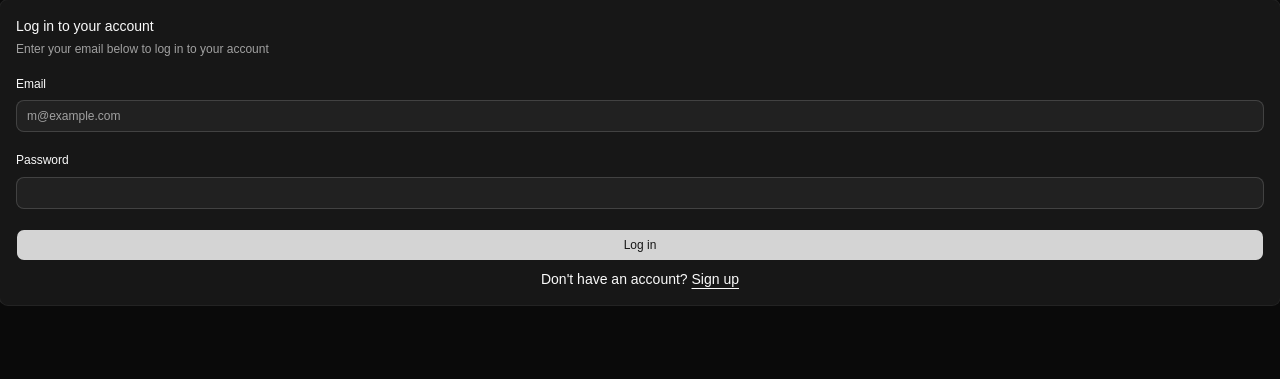
it: LoginForm › validates values before submitting
Type "not-an-email" into the field labelled "Email".
click(640, 116); type("not-an-email")  # box [16,100,1264,132]
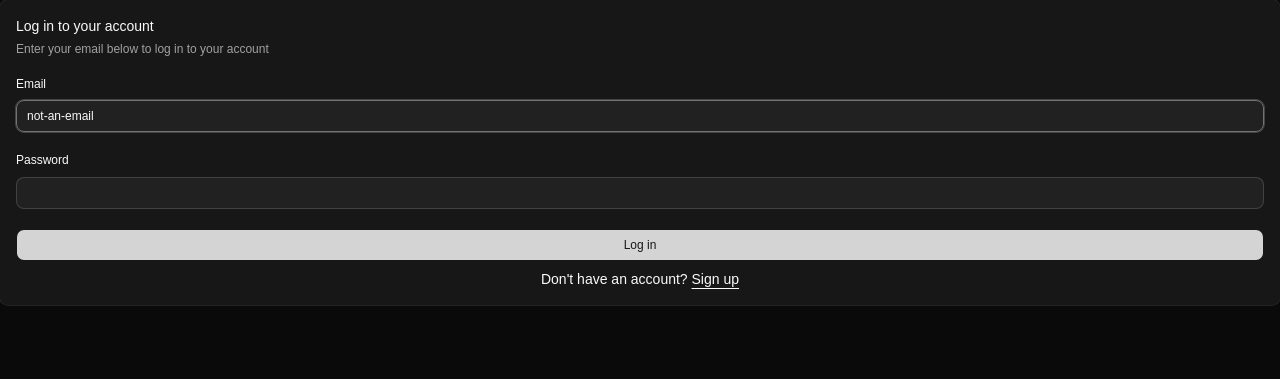
Type "short" into the password field labelled "Password".
click(640, 192); type("short")  # box [16,176,1264,208]
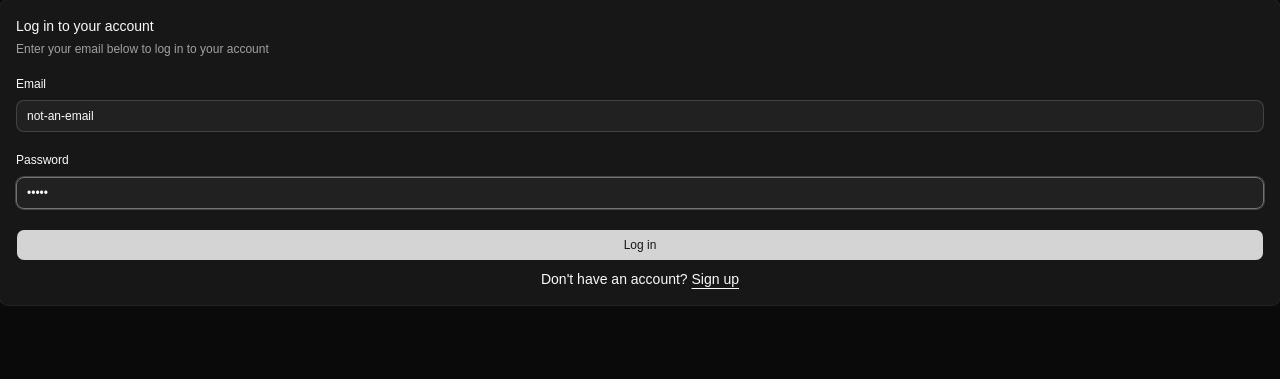
Click the button "Log in".
click(640, 244)  # box [16,228,1264,260]
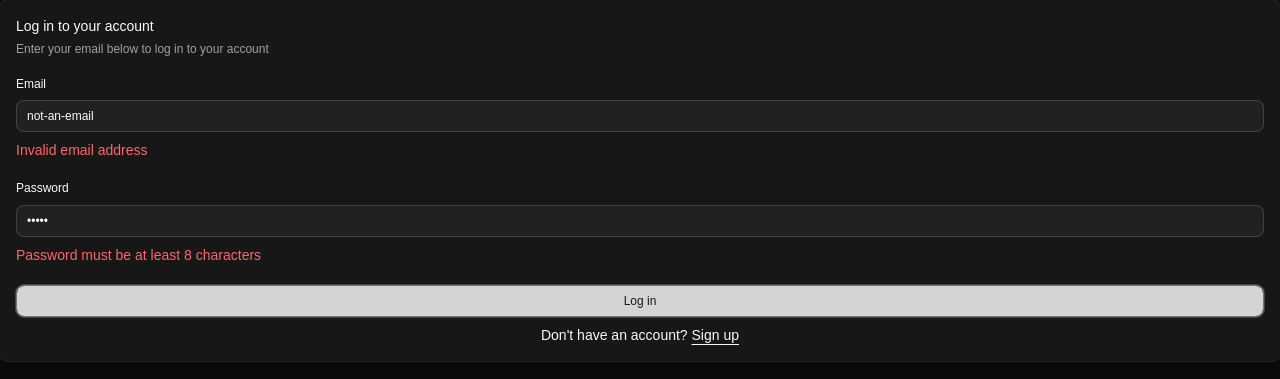
Check: the text "Invalid email address" is shown, box [16,142,148,158]
Check: the text "Password must be at least 8 characters" is shown, box [16,246,261,262]
